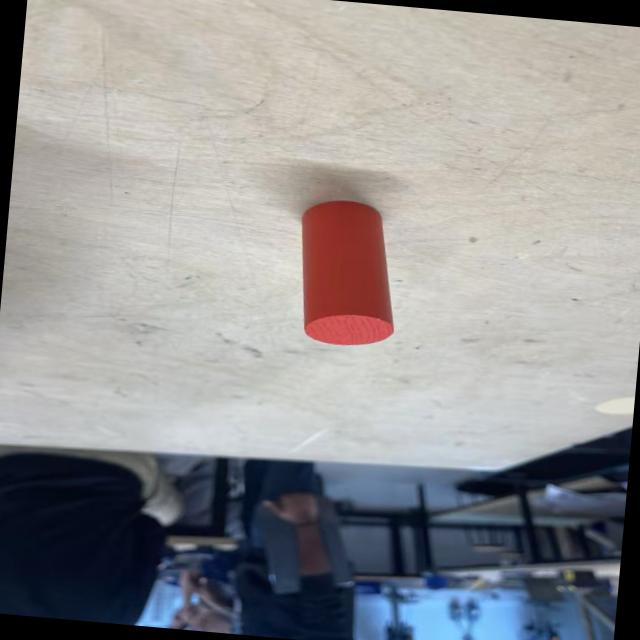red_cylinder: (290, 196, 405, 350)
